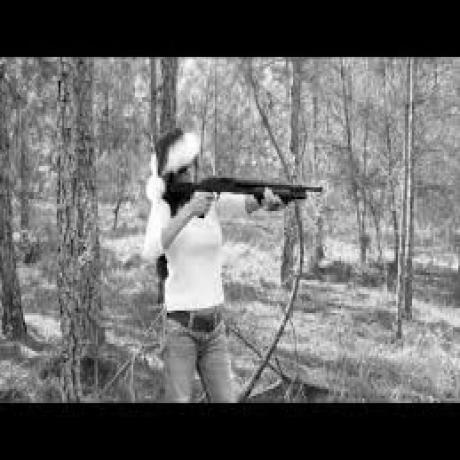Guns: (166, 170, 325, 216)
